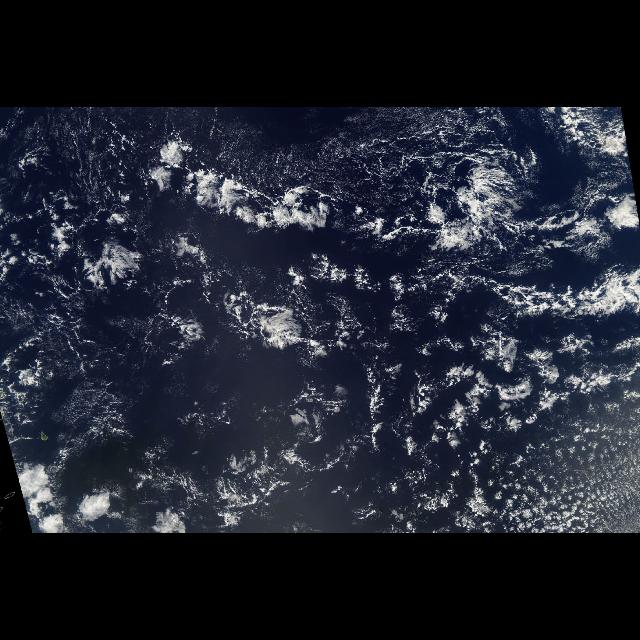Fish: (141, 133, 639, 344)
Flower: (15, 135, 639, 533)
Gravel: (324, 291, 632, 525), (2, 184, 204, 456), (328, 110, 598, 250)
Sugar: (205, 114, 428, 174), (6, 114, 118, 194), (586, 384, 638, 530)
